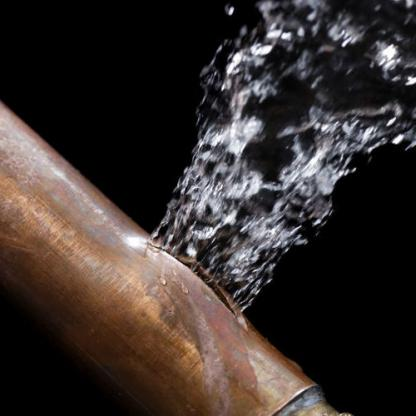burst: (131, 201, 278, 343)
